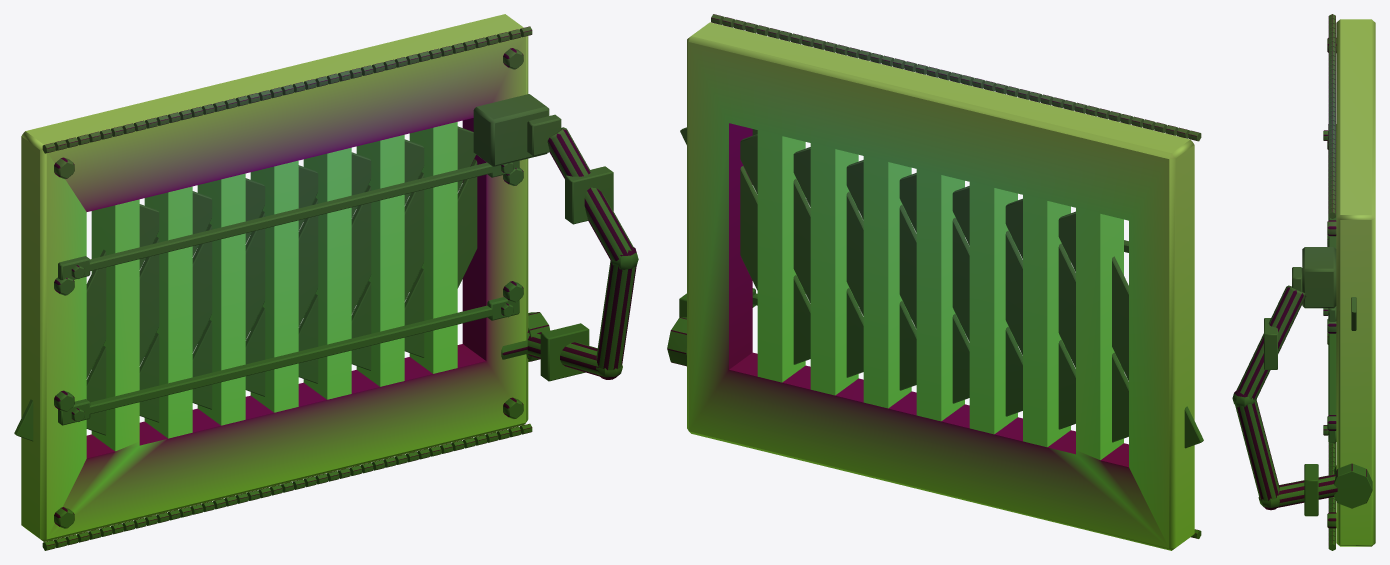
The model's file is RCLModule_bastion_siege_mech_stealth_radar_absorbent_ferrite_sponsons.fbx.
3 renders of one model, left to right at view 1: azimuth 30°, elevation 25°; view 2: azimuth 150°, elevation 25°; view 3: azimuth 270°, elevation 25°, orthographic. The views are drawn at different scales.
Visible parts, largest first — view 1: RCLModule_bastion_siege_mech_stealth_radar_absorbent_ferrite (×2); view 2: RCLModule_bastion_siege_mech_stealth_radar_absorbent_ferrite (×2); view 3: RCLModule_bastion_siege_mech_stealth_radar_absorbent_ferrite (×2).
Part boxes in pixels (x1=…): RCLModule_bastion_siege_mech_stealth_radar_absorbent_ferrite (×2): x1=14, y1=14, x2=638, y2=550; RCLModule_bastion_siege_mech_stealth_radar_absorbent_ferrite (×2): x1=667, y1=14, x2=1203, y2=550; RCLModule_bastion_siege_mech_stealth_radar_absorbent_ferrite (×2): x1=1232, y1=14, x2=1375, y2=550.
Size of the model in its own units: 41.04 by 28.62 by 10.95.
